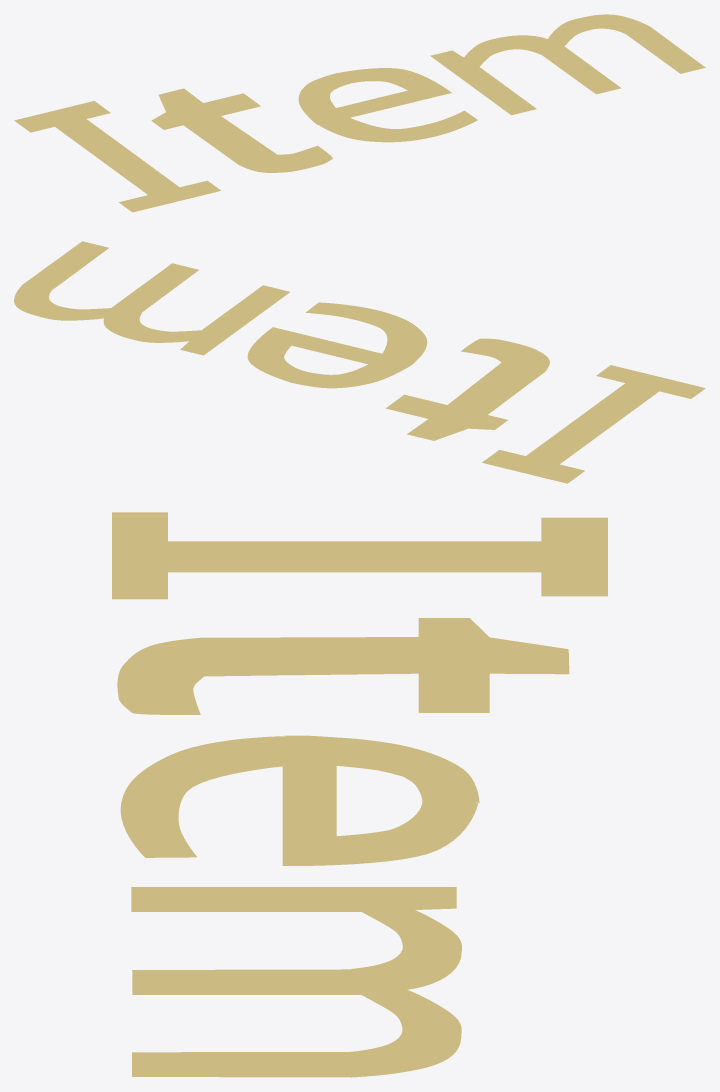
File: ItemPanel.fbx
3 renders of one model, top to bottom at view 1: azimuth 30°, elevation 25°; view 2: azimuth 150°, elevation 25°; view 3: azimuth 270°, elevation 25°, orthographic. The views are drawn at different scales.
Parts seen in each view (by area): view 1: Curve.003, Curve.008, Curve.007, Curve.006, Curve.011, Curve.012, Curve.014, Curve.015, Curve.009, Curve.013, Curve.004, Curve.010; view 2: Curve.003, Curve.008, Curve.007, Curve.006, Curve.011, Curve.012, Curve.014, Curve.015, Curve.013, Curve.009, Curve.010, Curve.004; view 3: Curve.003, Curve.008, Curve.007, Curve.006, Curve.011, Curve.012, Curve.014, Curve.015, Curve.013, Curve.004, Curve.009, Curve.010.
Boxes of the visible parts, left/top/right/bottom form: Curve.003: left=151, top=88, right=332, bottom=172; Curve.008: left=40, top=108, right=192, bottom=204; Curve.007: left=309, top=68, right=451, bottom=124; Curve.006: left=319, top=110, right=477, bottom=142; Curve.011: left=430, top=50, right=536, bottom=115; Curve.012: left=530, top=41, right=621, bottom=94; Curve.014: left=547, top=14, right=650, bottom=46; Curve.015: left=626, top=27, right=705, bottom=73; Curve.009: left=14, top=101, right=110, bottom=132; Curve.013: left=463, top=35, right=554, bottom=67; Curve.004: left=298, top=72, right=338, bottom=124; Curve.010: left=119, top=180, right=220, bottom=212; Curve.003: left=385, top=338, right=549, bottom=440; Curve.008: left=509, top=383, right=658, bottom=476; Curve.007: left=247, top=327, right=413, bottom=381; Curve.006: left=306, top=302, right=427, bottom=361; Curve.011: left=180, top=285, right=289, bottom=355; Curve.012: left=103, top=263, right=198, bottom=321; Curve.014: left=14, top=284, right=116, bottom=320; Curve.015: left=24, top=241, right=108, bottom=290; Curve.013: left=103, top=313, right=204, bottom=342; Curve.009: left=482, top=449, right=584, bottom=483; Curve.010: left=596, top=365, right=705, bottom=398; Curve.004: left=290, top=362, right=414, bottom=388; Curve.003: left=117, top=618, right=569, bottom=714; Curve.008: left=112, top=541, right=606, bottom=572; Curve.007: left=282, top=736, right=477, bottom=865; Curve.006: left=120, top=736, right=285, bottom=857; Curve.011: left=131, top=887, right=456, bottom=911; Curve.012: left=132, top=969, right=395, bottom=994; Curve.014: left=350, top=984, right=461, bottom=1077; Curve.015: left=132, top=1052, right=353, bottom=1077; Curve.013: left=351, top=901, right=461, bottom=991; Curve.004: left=284, top=735, right=479, bottom=803; Curve.009: left=541, top=517, right=607, bottom=596; Curve.010: left=112, top=512, right=167, bottom=599.
Size of the model in its own units: 1.75 by 1.06e-07 by 0.6491.
